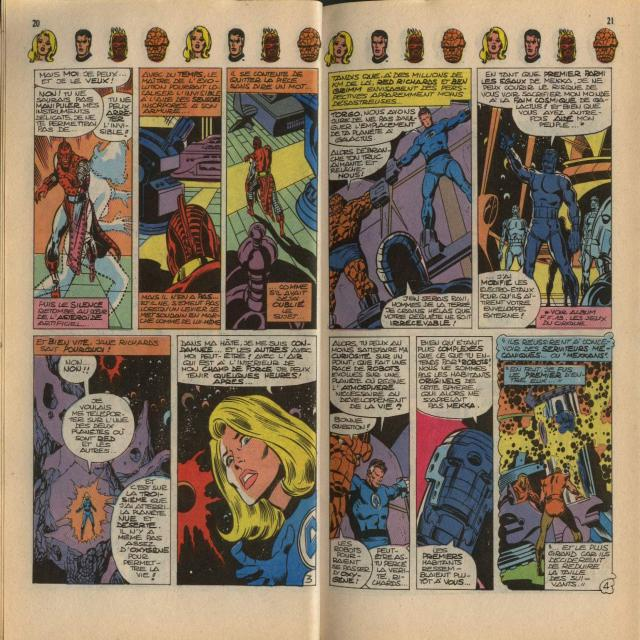comic_panel: (326, 66, 474, 332), (476, 66, 614, 333), (175, 333, 318, 587), (32, 333, 172, 586), (494, 332, 615, 594), (33, 66, 134, 330), (225, 66, 318, 332), (138, 65, 224, 332), (328, 334, 412, 593), (414, 334, 496, 593)
